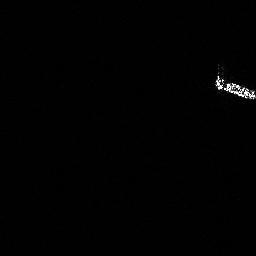ship: (212, 71, 256, 103)
